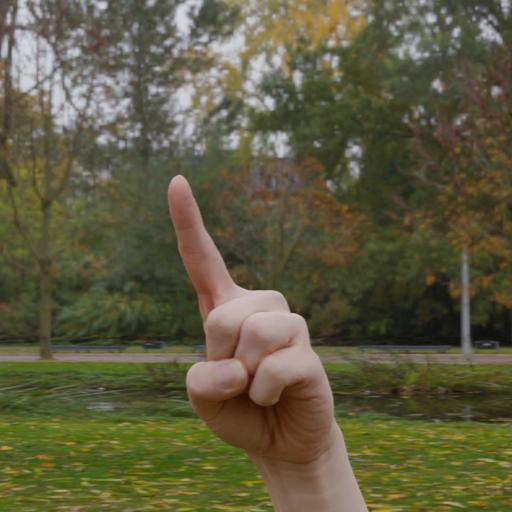Z: (135, 137, 371, 505)
